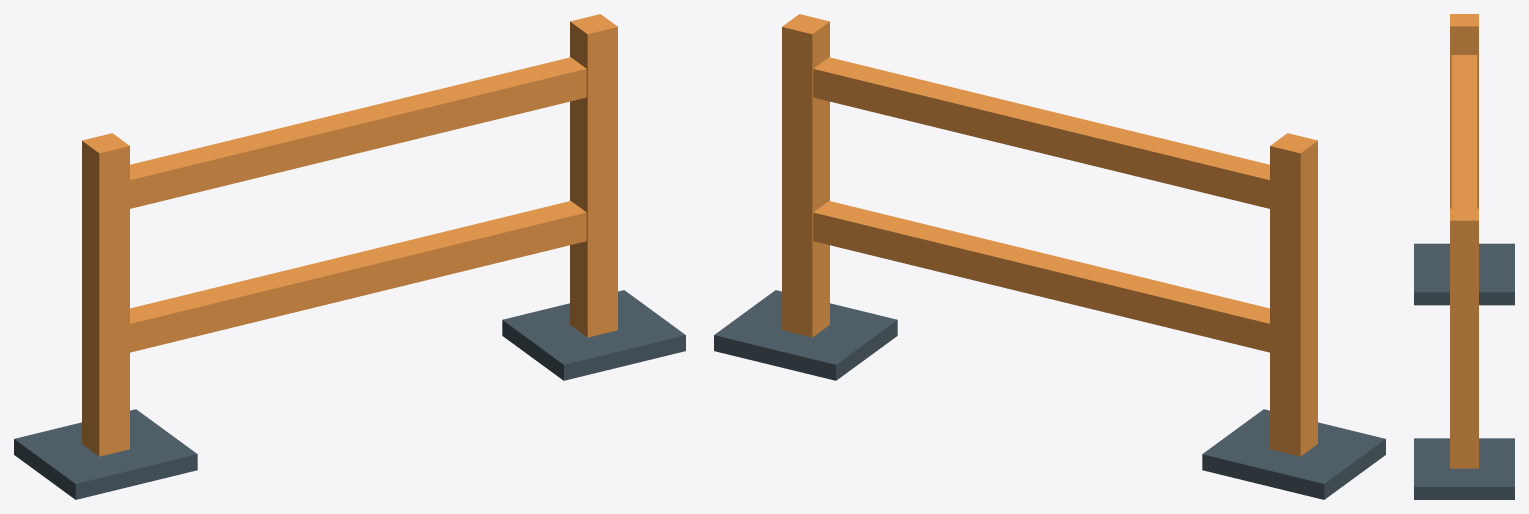
File: heavy-pedestrian-barrier.glb
3 renders of one model, left to right at view 1: azimuth 30°, elevation 25°; view 2: azimuth 150°, elevation 25°; view 3: azimuth 270°, elevation 25°, orthographic. The views are drawn at different scales.
Visible parts, largest first — view 1: orange, dark; view 2: orange, dark; view 3: orange, dark.
Part boxes in pixels (<box>): orange: <box>82,14,617,456</box>; dark: <box>14,290,685,499</box>; orange: <box>782,14,1317,456</box>; dark: <box>714,290,1385,499</box>; orange: <box>1450,14,1478,468</box>; dark: <box>1414,243,1514,499</box>.
Bounding box in the file's own units: 2 × 1 × 0.3499.
